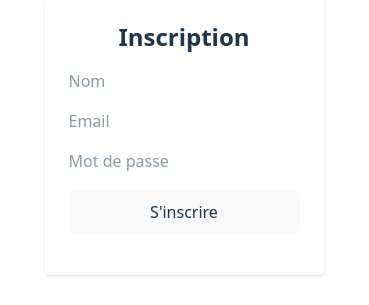
Test: Register.vue › affiche un message après une inscription réussie
The image size is (369, 305).
In the field with placeholder "Nom": (184, 81) [68,69,300,93], type "Jean"
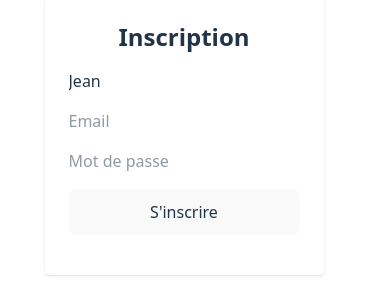
In the field with placeholder "Email": (184, 121) [68,109,300,133], type "jean@example.com"
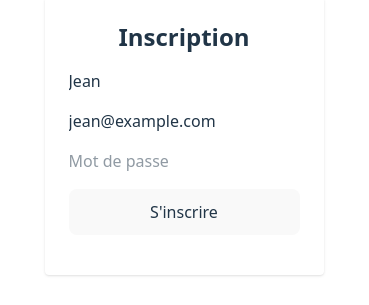
In the password field with placeholder "Mot de passe": (184, 161) [68,149,300,173], type "123456"
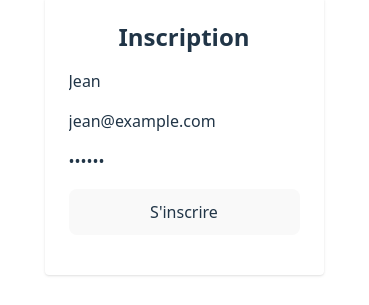
Submit the form, box [68,69,300,235]
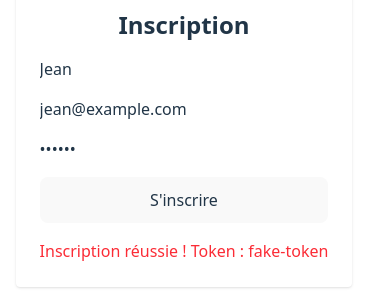
Expected: the text "Inscription réussie ! Token : fake-token" is shown, [40,239,328,263]
